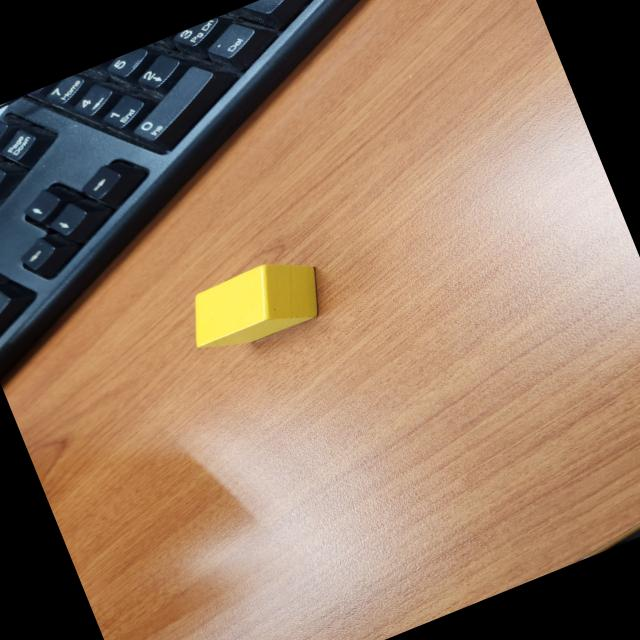yellow: (176, 246, 333, 364)
